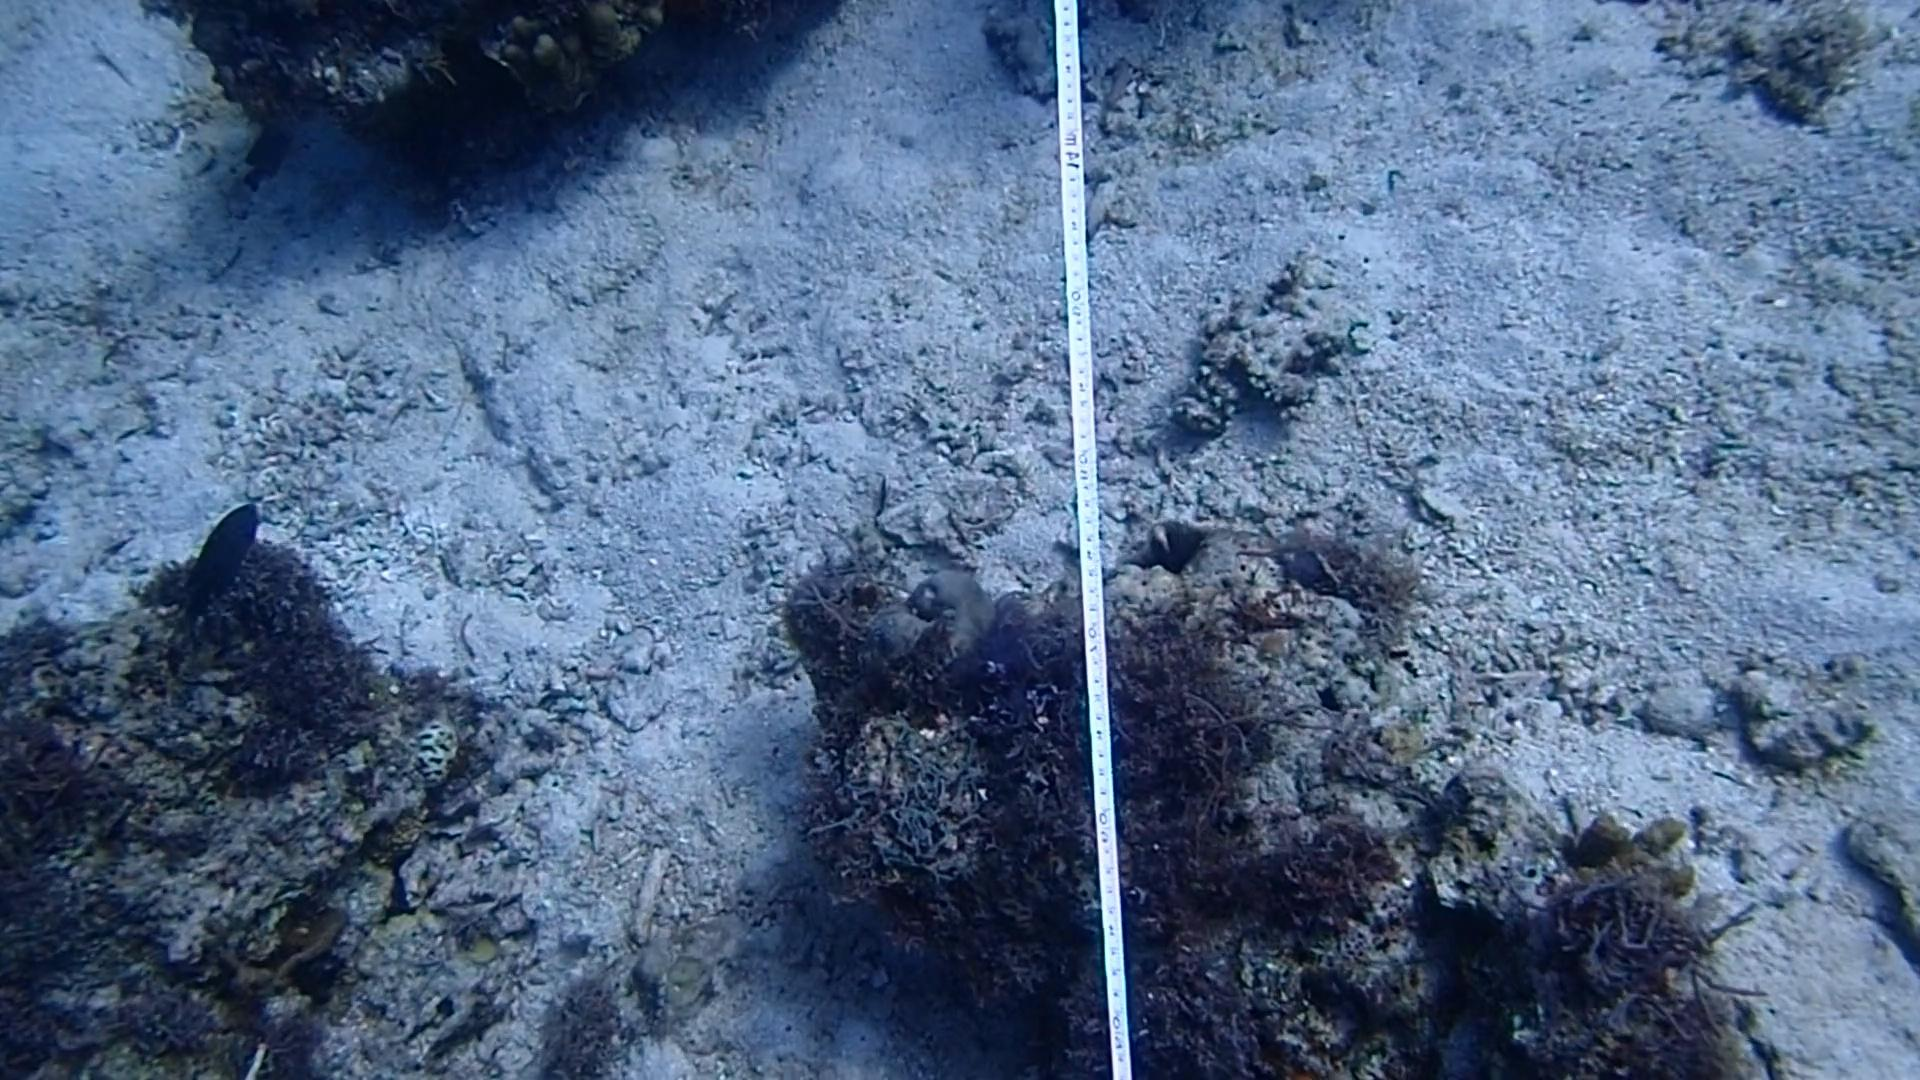Dark Fish: (174, 488, 272, 630), (236, 109, 309, 190)
